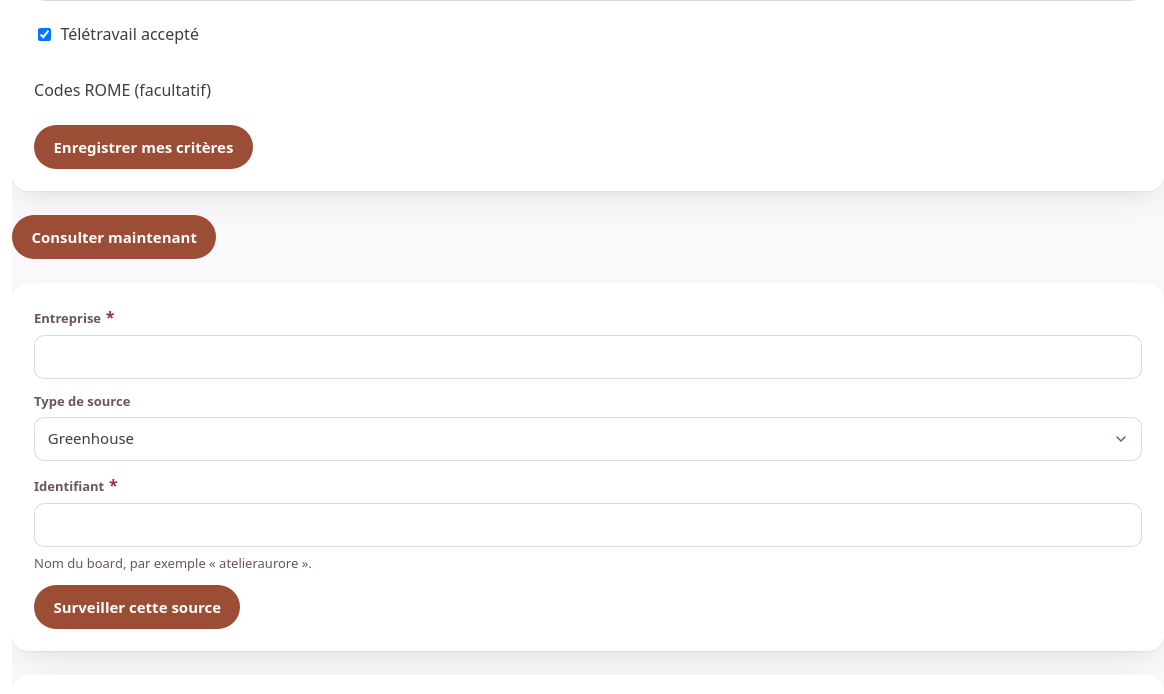
Test case: SitesPage › [EF-VEI-03] says plainly when a source is already watched
This screenshot has width=1164, height=694.
(page scrolled)
In the field labelled "Entreprise": (588, 357) [34,335,1142,379], type "Atelier Aurore"
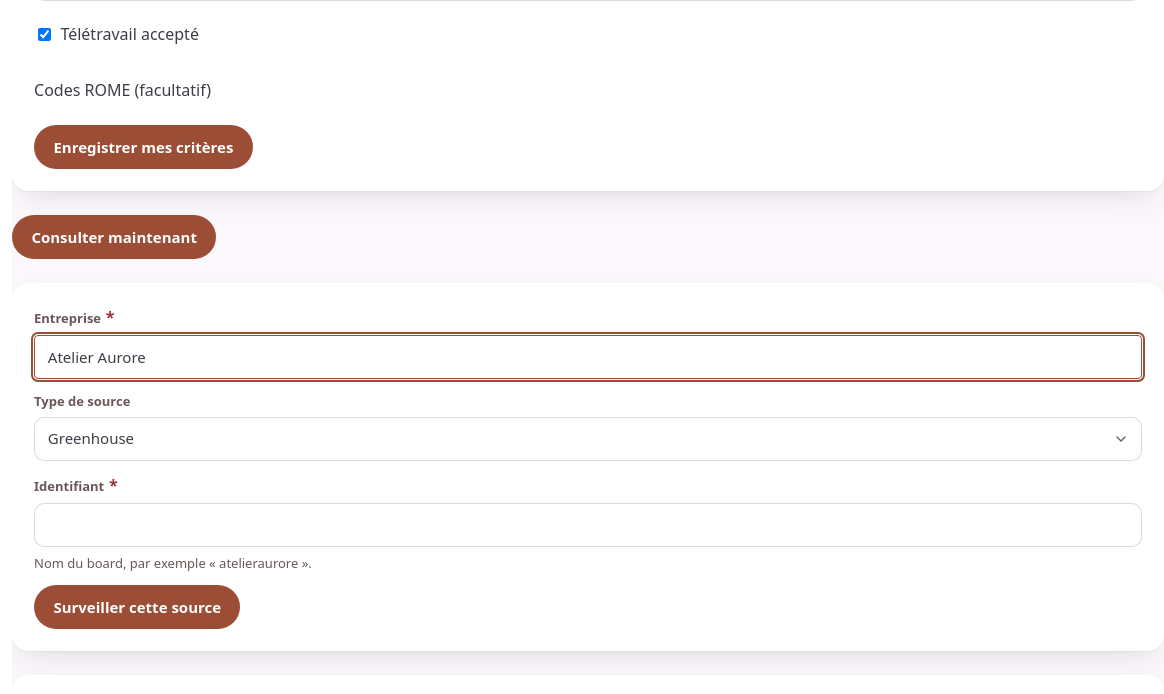
In the field labelled "Identifiant": (588, 525) [34,503,1142,547], type "atelieraurore"
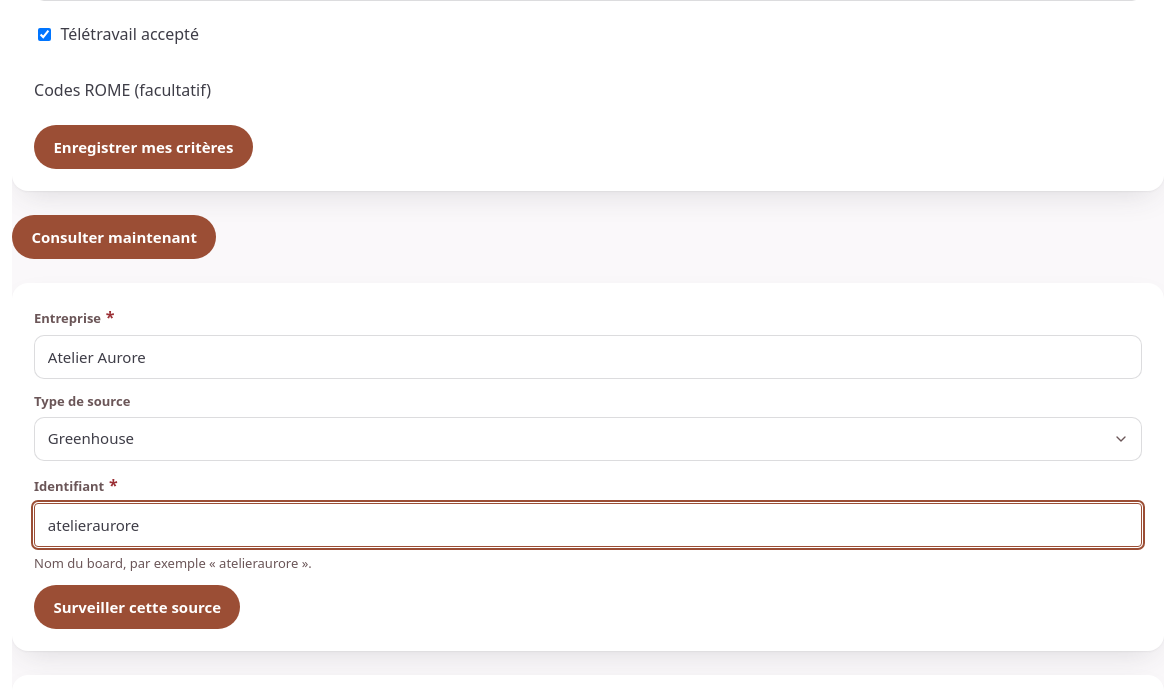
Click the button "Surveiller cette source": (137, 607) [34,585,240,629]
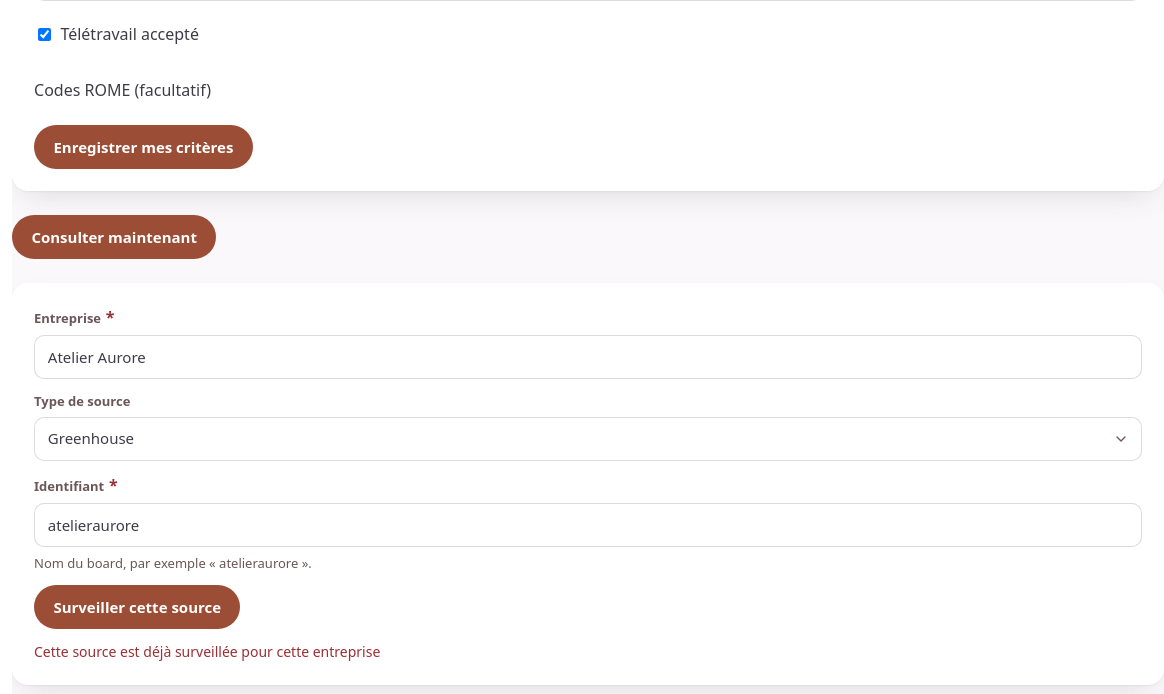
Check: the message shows "déjà surveillée", box [34,642,380,661]
